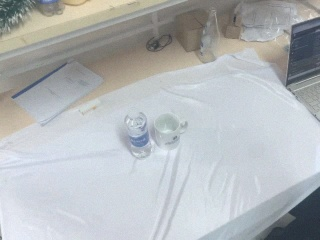bottle: (198, 5, 221, 68), (124, 111, 153, 159), (34, 1, 65, 17)
box: (174, 8, 212, 52)
cup: (153, 112, 188, 151)
